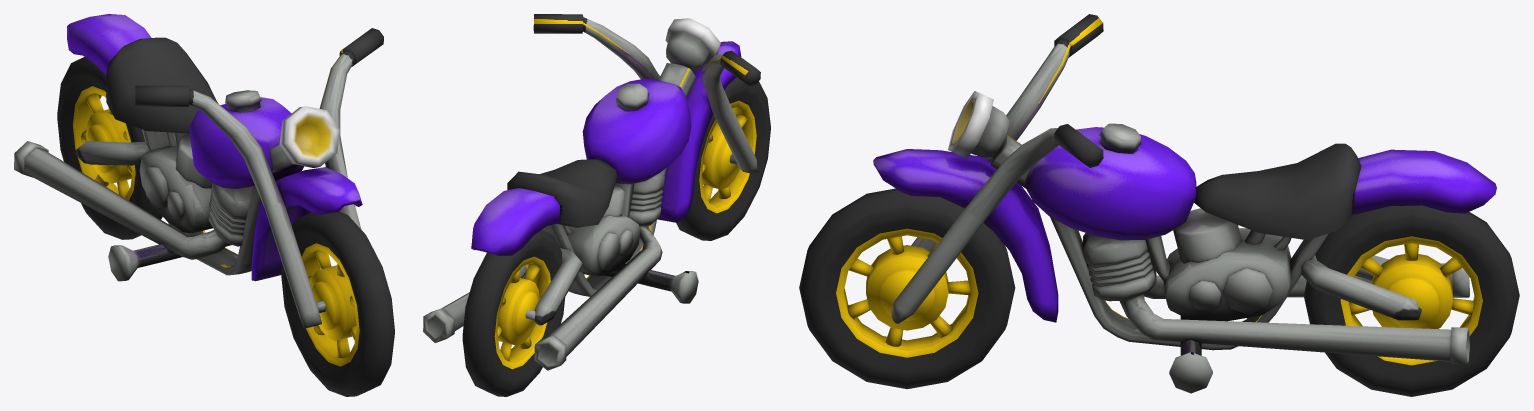
The model's file is MotorCycle.fbx.
3 views of the same model, side by side, from view 1: azimuth 30°, elevation 25°; view 2: azimuth 150°, elevation 25°; view 3: azimuth 270°, elevation 25° (orthographic). The views are drawn at different scales.
Visible parts, largest first — view 1: moto, rull, wheel_1, wheel_2; view 2: moto, rull, wheel_2, wheel_1; view 3: moto, wheel_1, wheel_2, rull.
Boxes of the visible parts, bbox=[...] form: moto: bbox=[14, 14, 303, 281]; rull: bbox=[135, 28, 383, 328]; wheel_1: bbox=[281, 211, 394, 396]; wheel_2: bbox=[57, 57, 162, 239]; moto: bbox=[423, 63, 698, 370]; rull: bbox=[533, 14, 760, 222]; wheel_2: bbox=[462, 230, 565, 396]; wheel_1: bbox=[676, 77, 770, 240]; moto: bbox=[991, 123, 1496, 393]; wheel_1: bbox=[799, 188, 1015, 389]; wheel_2: bbox=[1303, 205, 1519, 396]; rull: bbox=[873, 14, 1103, 323].
Size of the model in its own units: 105 by 112 by 234.
